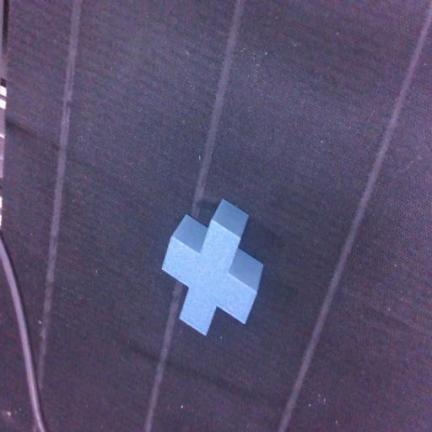cross: (162, 200, 263, 334)
